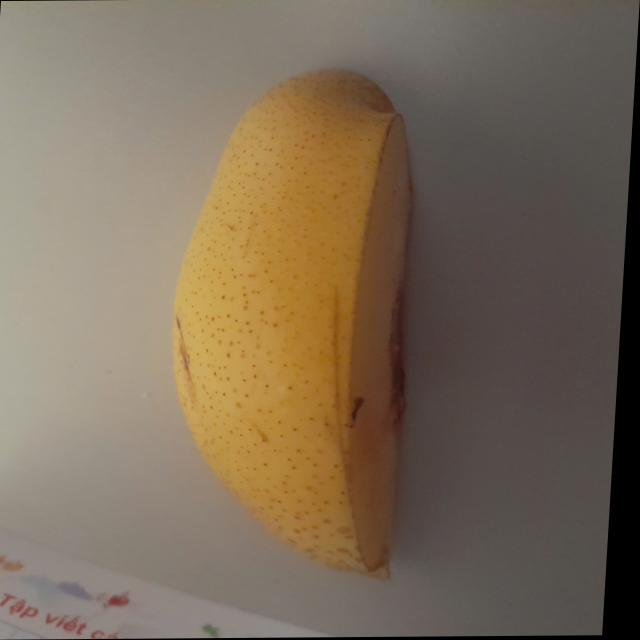Le: (161, 64, 439, 584)
